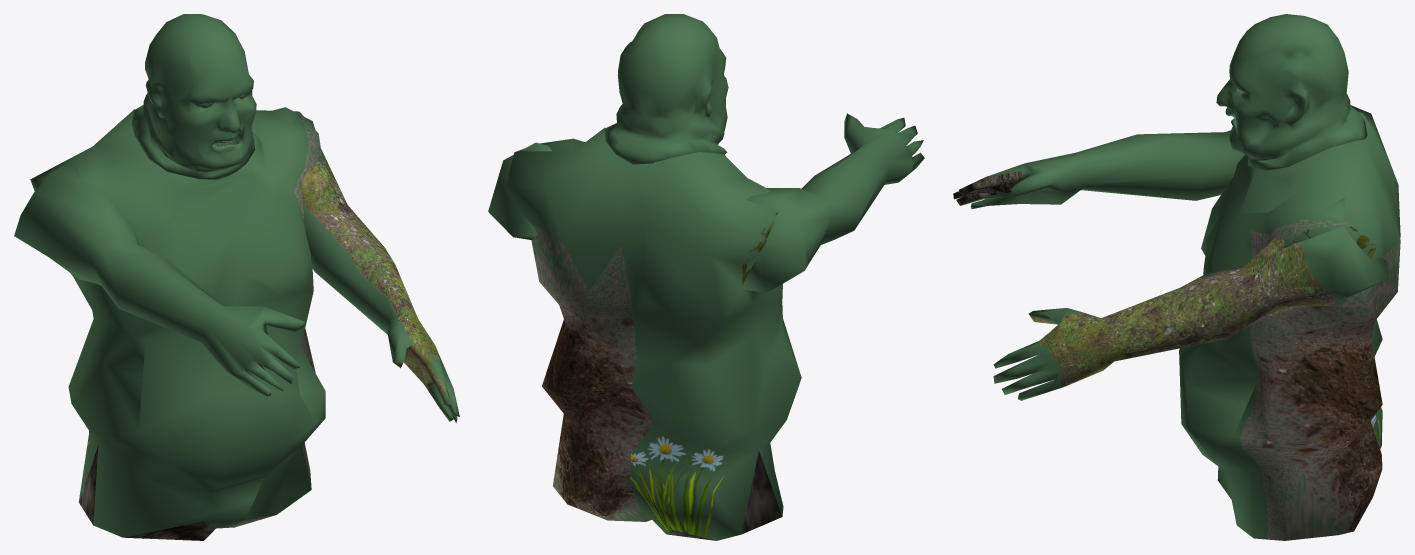
The model's file is torso.obj.
The picture shows the model from 3 angles, left to right: view 1: azimuth 30°, elevation 25°; view 2: azimuth 150°, elevation 25°; view 3: azimuth 270°, elevation 25°; orthographic projection.
Parts seen in each view (by area): view 1: Torso_Eyes.003; view 2: Torso_Eyes.003; view 3: Torso_Eyes.003.
Part boxes in pixels (x1,y1,x2,y2): Torso_Eyes.003: [14, 14, 459, 540]; Torso_Eyes.003: [488, 14, 924, 540]; Torso_Eyes.003: [953, 14, 1400, 540].
Size of the model in its own units: 0.6901 by 1.09 by 0.8901.
